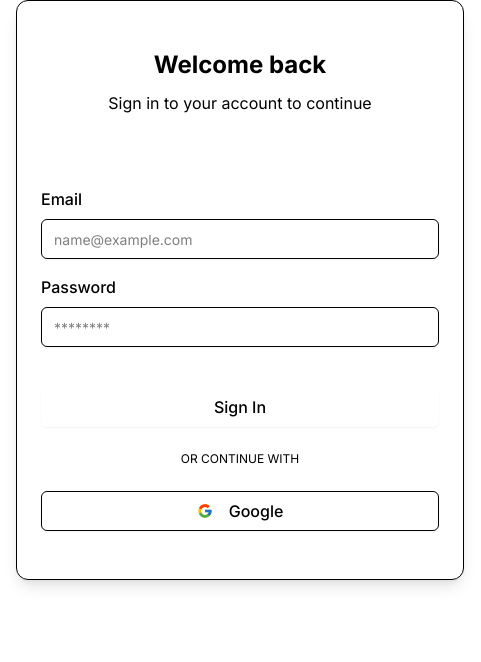
Test: LoginForm › shows validation errors for invalid inputs
In the field labelled "Email": x=240, y=239 [41,219,439,259], type "invalid-email"
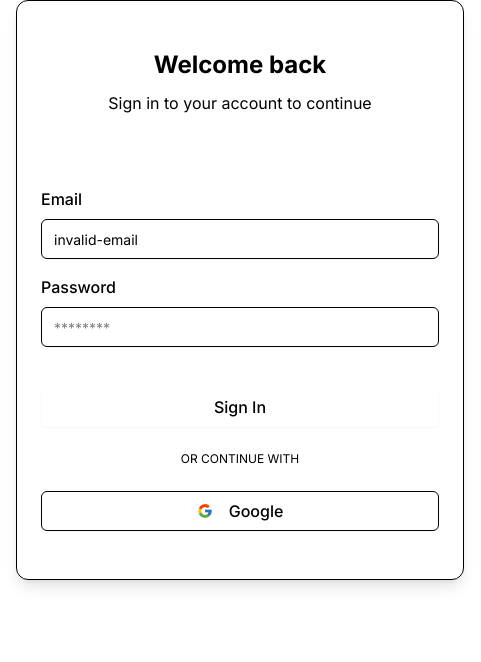
In the password field labelled "Password": x=240, y=327 [41,307,439,347], type "short"
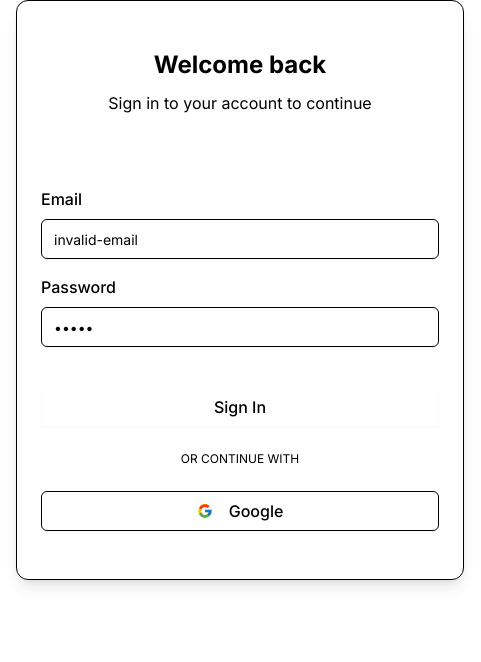
Click the button "Sign In": x=240, y=407 [41,387,439,427]
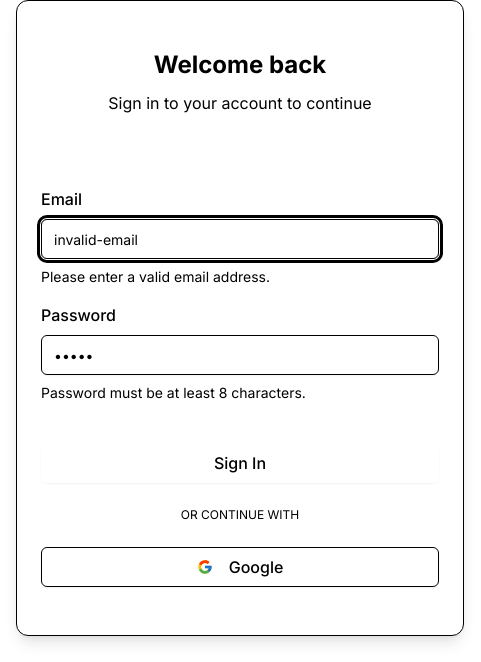
Check: the text "Please enter a valid email address." is shown, box [41,268,270,285]
Check: the text "Password must be at least 8 characters." is shown, box [41,384,306,401]
